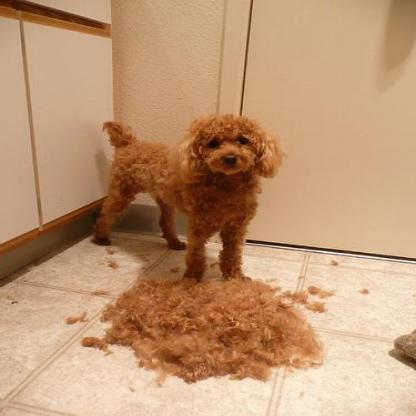toy_poodle: (87, 112, 280, 278)
